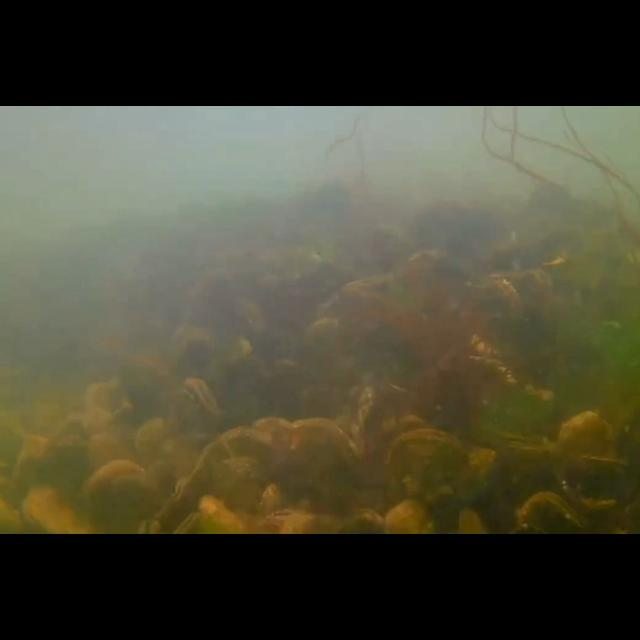Oyster-Closed: (148, 431, 302, 535), (252, 418, 372, 534), (387, 429, 469, 535), (550, 410, 624, 504), (129, 411, 197, 505), (79, 461, 161, 535), (19, 484, 87, 534), (515, 492, 589, 534), (461, 279, 525, 325), (485, 270, 555, 310)
Oyster-Open: (174, 378, 222, 437), (346, 383, 376, 437)
